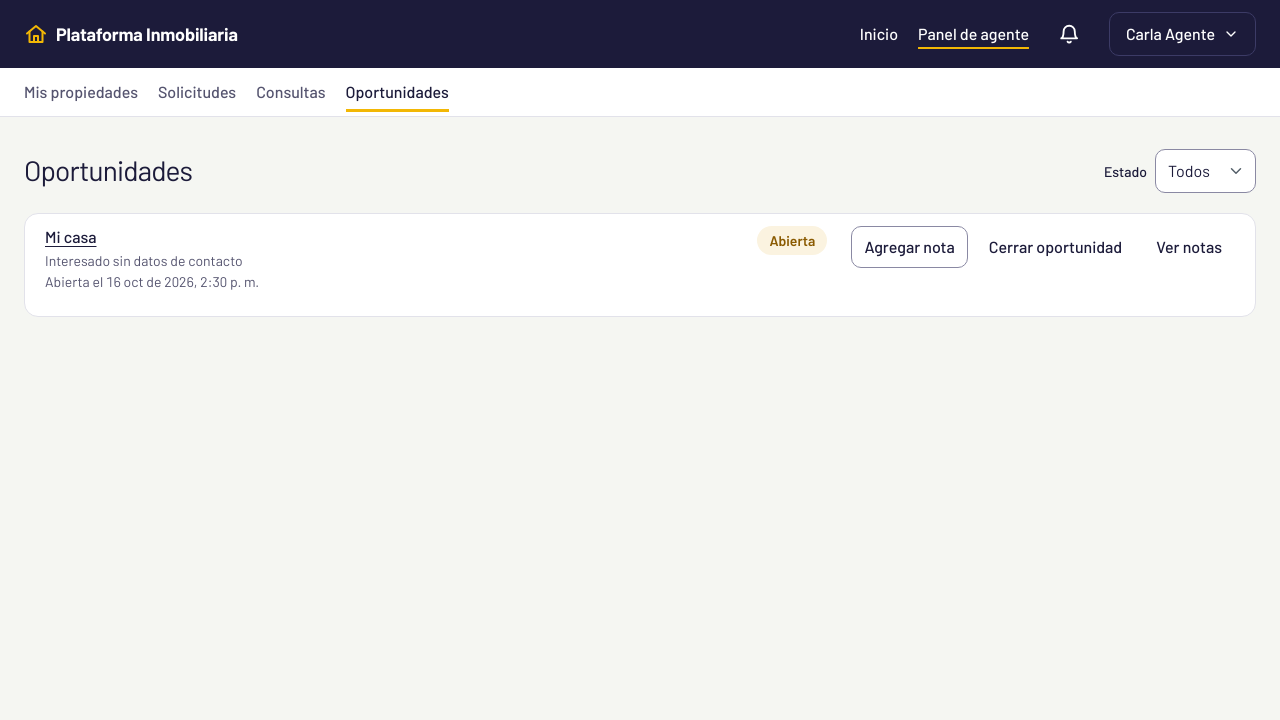
Test: AgentLeadsPage › closing as lost does not promise a reservation and omits the empty note
This screenshot has width=1280, height=720.
Click the button "Cerrar oportunidad" at (1056, 247), box [976, 226, 1135, 268]
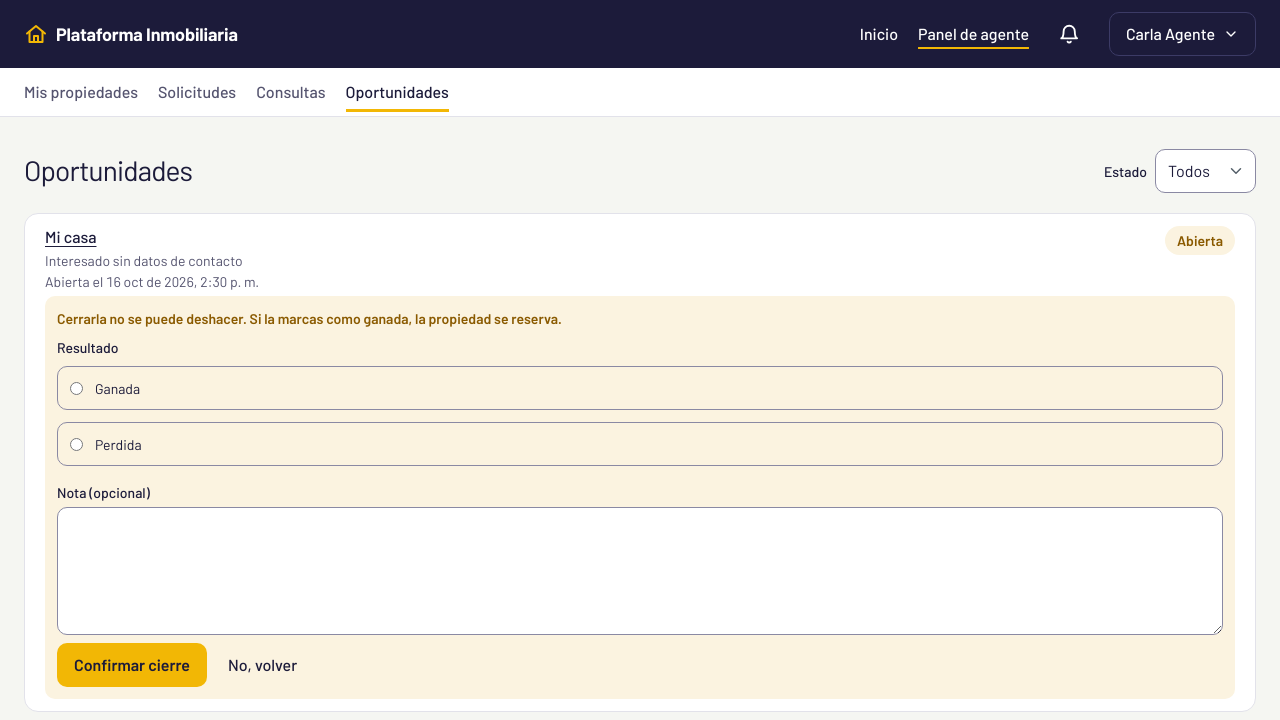
Click the radio button labelled "Perdida" at (76, 444), box [70, 438, 83, 450]
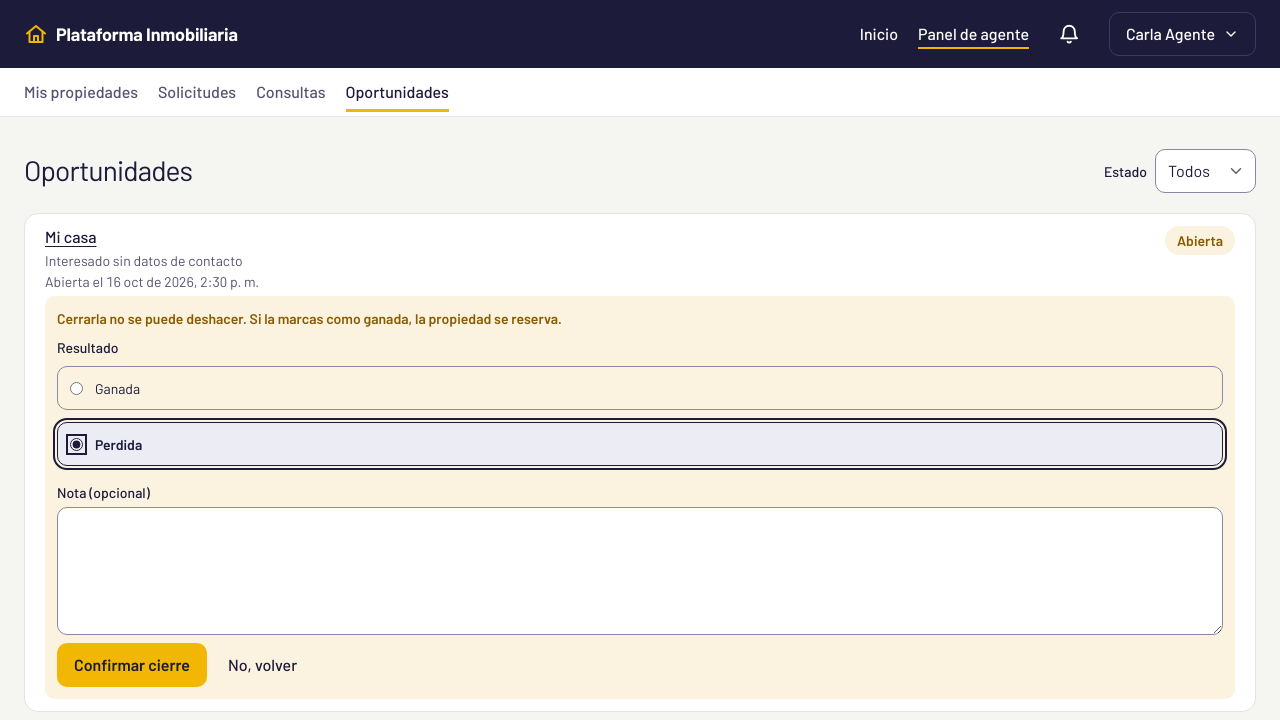
Click the button "Confirmar cierre" at (132, 665), box [57, 643, 207, 687]
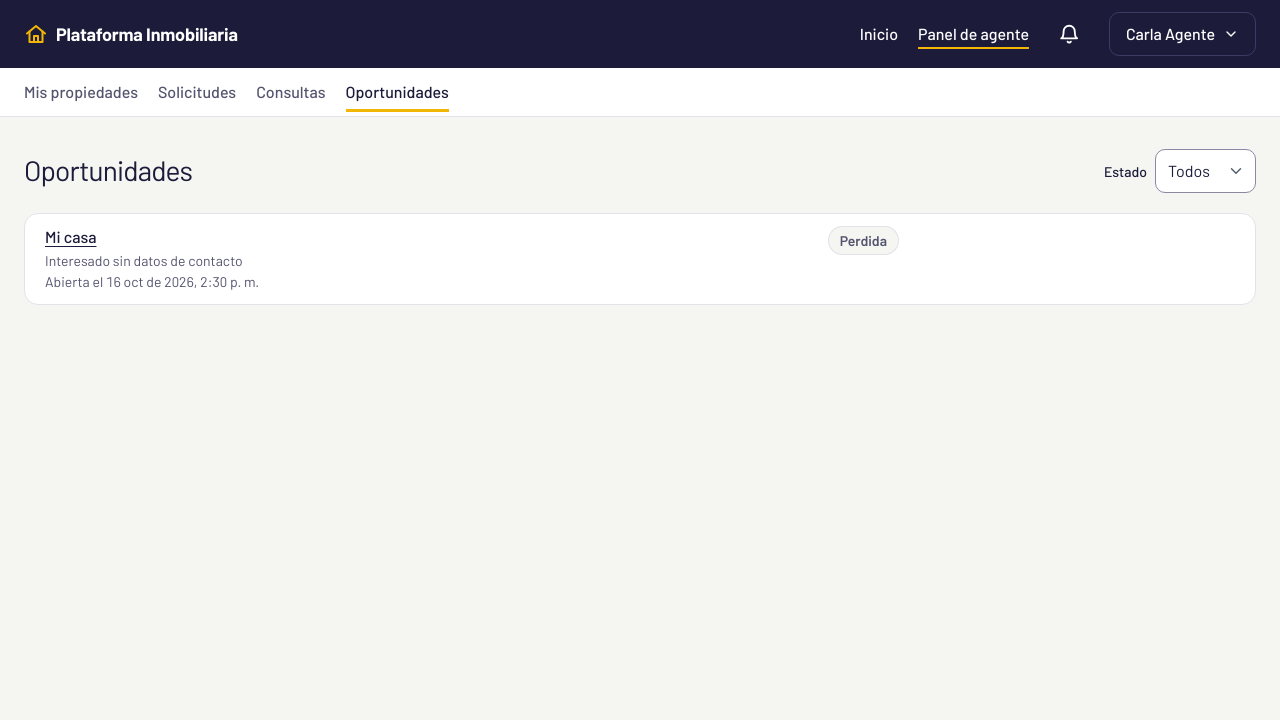
Now the text "Perdida" is shown, box [828, 226, 899, 255]
